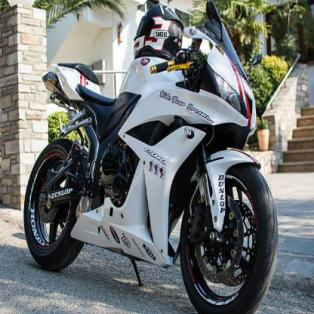Motocicleta: (22, 0, 282, 313)
